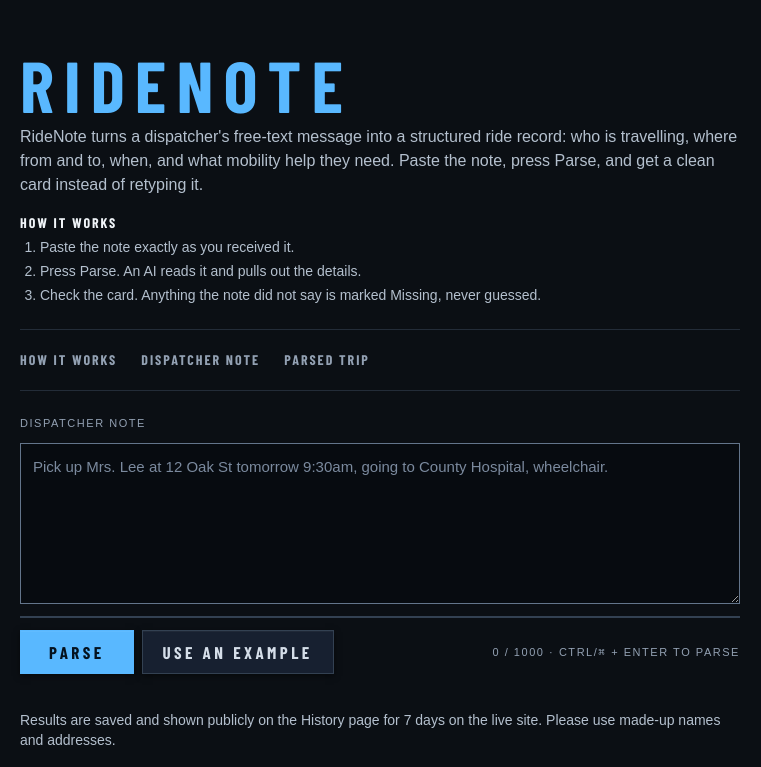
Home page › clears the note and the previous result, and returns focus to the textarea
Type "Pick up Lee" into the text box labelled "Dispatcher note" at (380, 524), box [20,443,740,604]
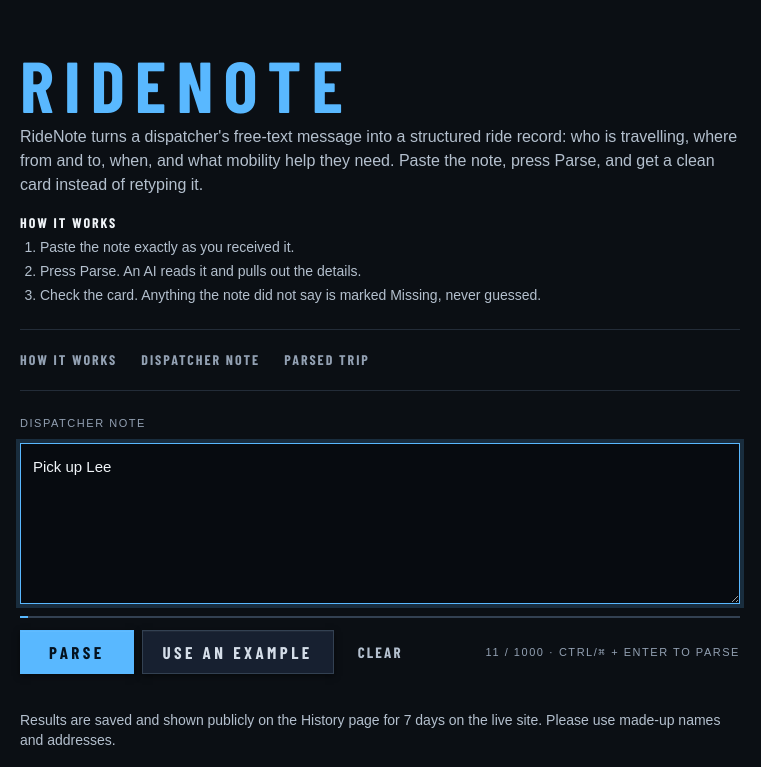
Click the button "Parse" at (77, 652), box [20,630,134,674]
(page scrolled)
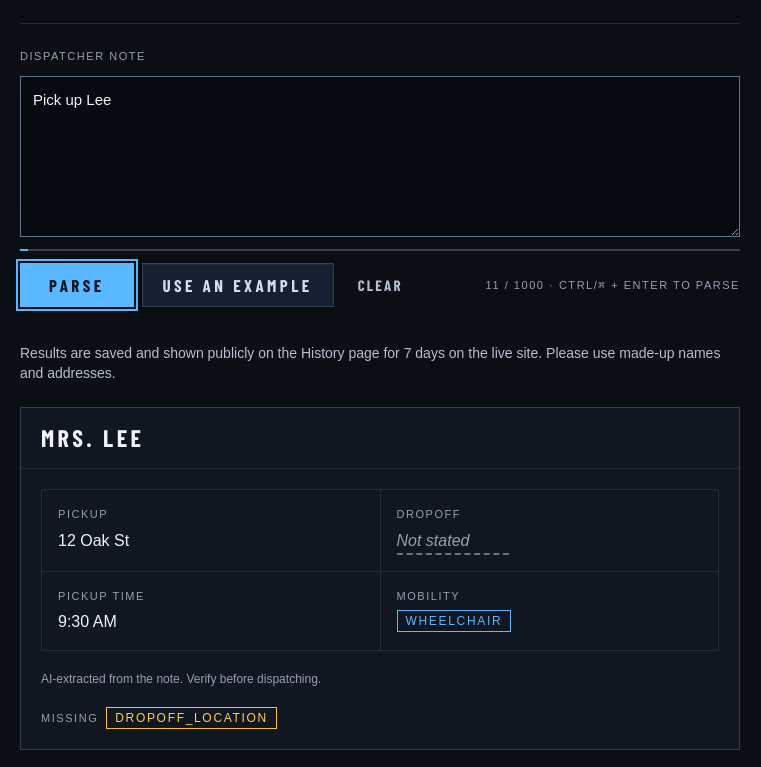
Expected: the heading "Mrs. Lee" is shown, [21,408,739,469]
Click the button "Clear" at (380, 285), box [342,263,419,307]
(page scrolled)
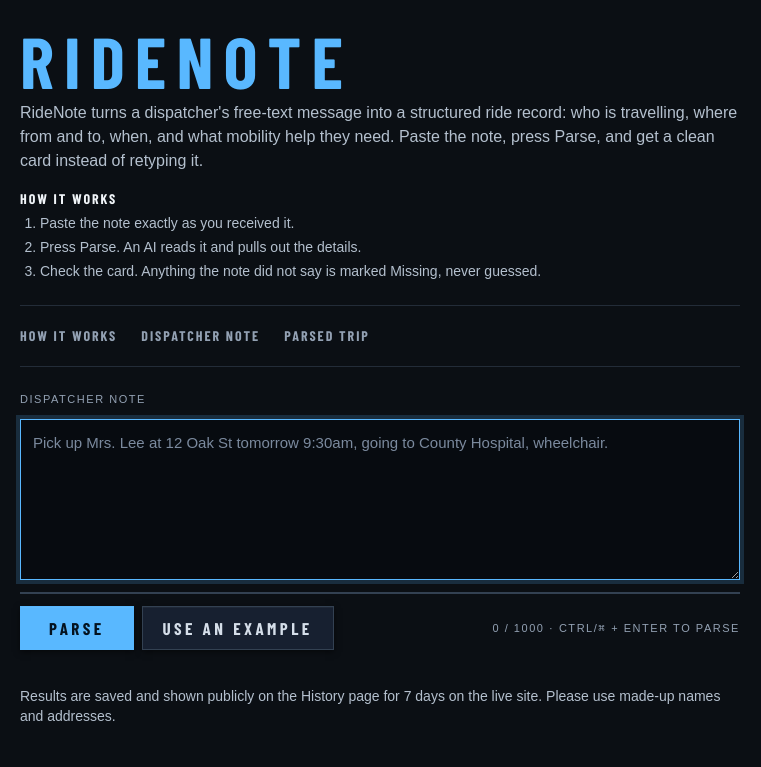
Expected: the text box labelled "Dispatcher note" is empty, [20,419,740,580]
